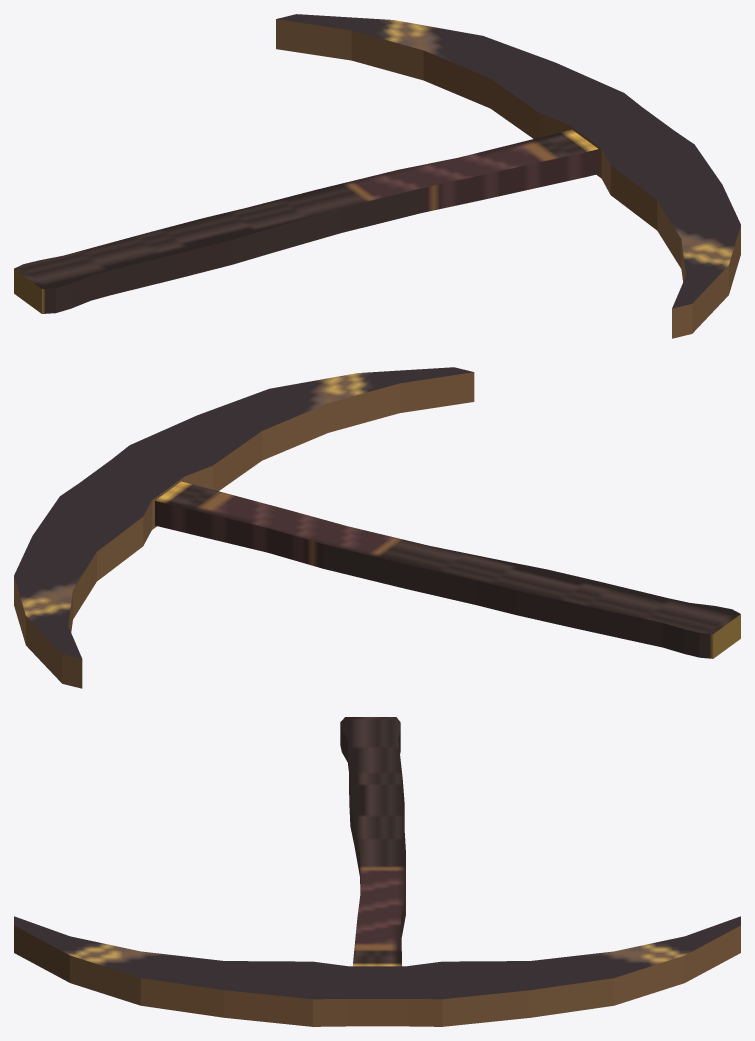
Rendered from pickaxe_finished_bench.obj.
The picture shows the model from 3 angles, top to bottom: view 1: azimuth 30°, elevation 25°; view 2: azimuth 150°, elevation 25°; view 3: azimuth 270°, elevation 25°; orthographic projection. The views are drawn at different scales.
Visible parts, largest first — view 1: geometry; view 2: geometry; view 3: geometry.
Boxes of the visible parts, box(x1,y1,x2,y2) form: geometry: box(14, 14, 740, 338); geometry: box(14, 367, 740, 688); geometry: box(14, 717, 740, 1026).
Size of the model in its own units: 0.6948 by 0.0314 by 0.75.
